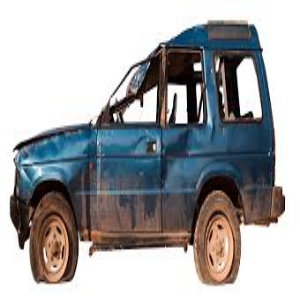door_scratch: (86, 168, 193, 253)
